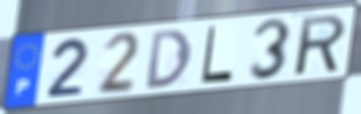2: (96, 30, 143, 99), (45, 35, 91, 101)
3: (248, 16, 295, 82)
D: (145, 27, 194, 92)
L: (198, 24, 235, 86)
R: (294, 12, 349, 78)
